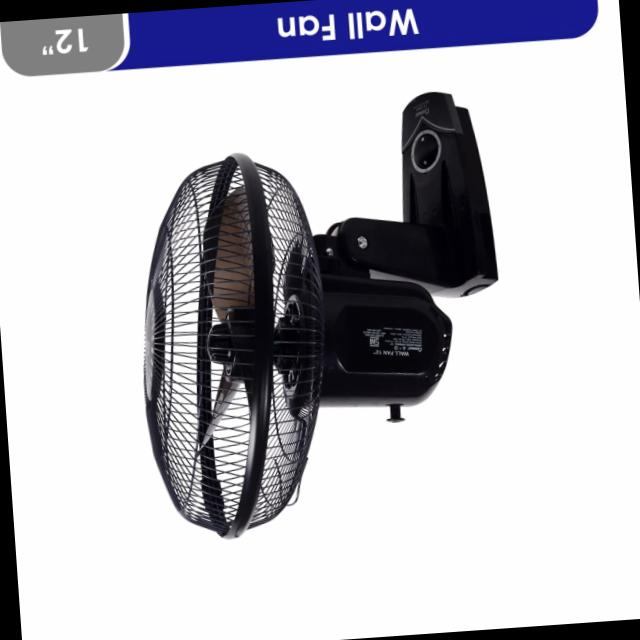fan: (70, 56, 566, 588)
